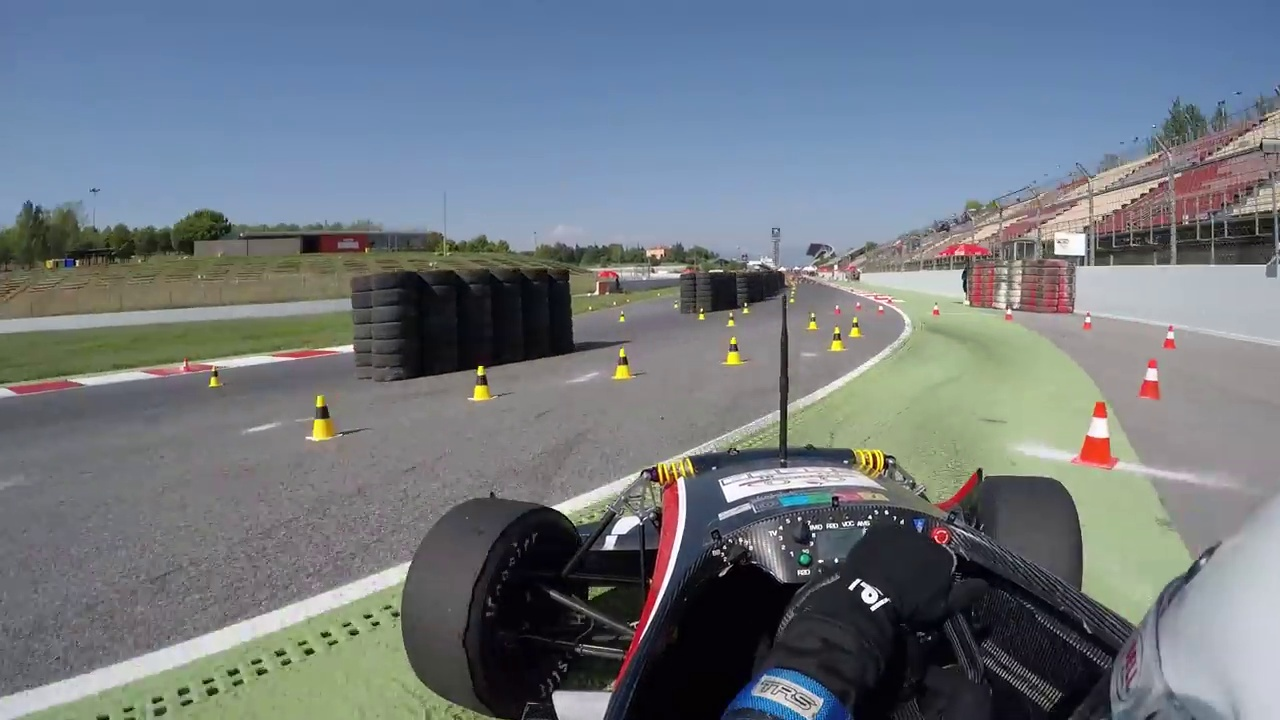Cone: (1072, 399, 1122, 471), (309, 395, 339, 445), (1136, 358, 1165, 398), (471, 364, 498, 402), (722, 334, 748, 367), (613, 348, 634, 379)
